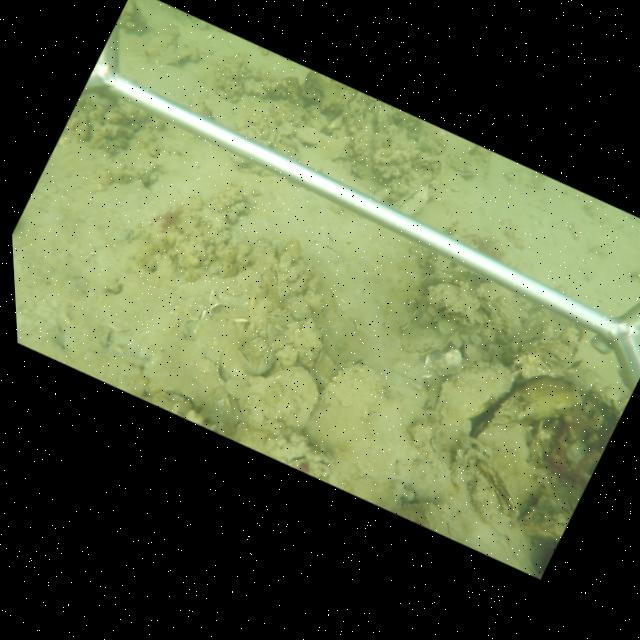Oyster-Closed: (472, 375, 584, 444), (304, 360, 384, 454), (433, 361, 516, 427), (472, 457, 518, 519), (426, 281, 483, 325), (391, 182, 430, 215), (401, 328, 446, 356), (147, 385, 199, 408), (446, 156, 480, 179), (240, 332, 266, 360), (266, 307, 295, 329), (234, 347, 253, 373), (433, 319, 458, 337), (252, 358, 271, 378), (260, 320, 275, 344), (261, 343, 275, 366), (418, 311, 433, 327), (435, 272, 454, 282)
Oyster-Indeterminate: (235, 366, 320, 433)
